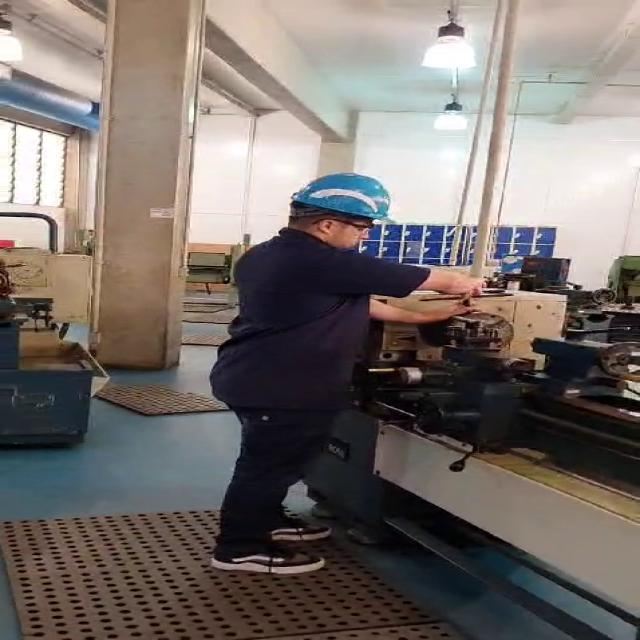oculos-epi: (315, 219, 374, 234)
